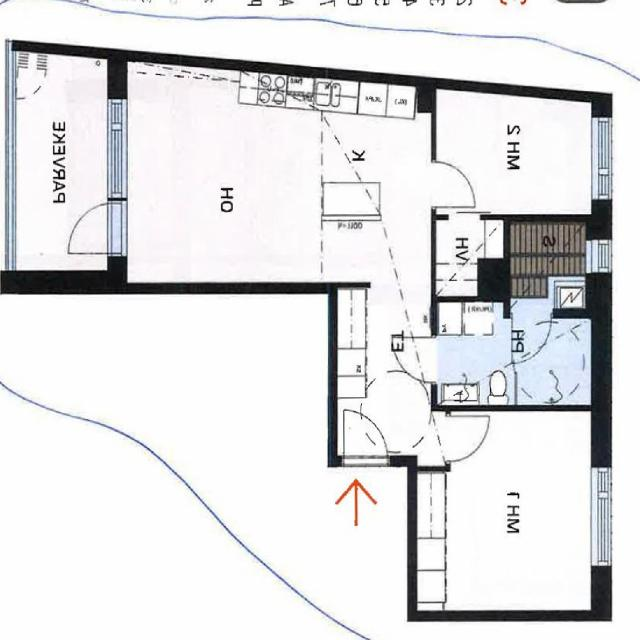door: (64, 203, 127, 253), (344, 405, 388, 466), (512, 311, 552, 363), (431, 162, 476, 208), (392, 337, 436, 382), (446, 416, 490, 461)
